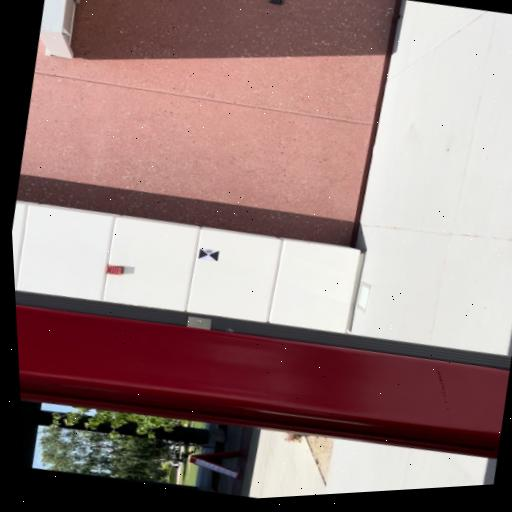target6: (199, 248, 219, 262)
